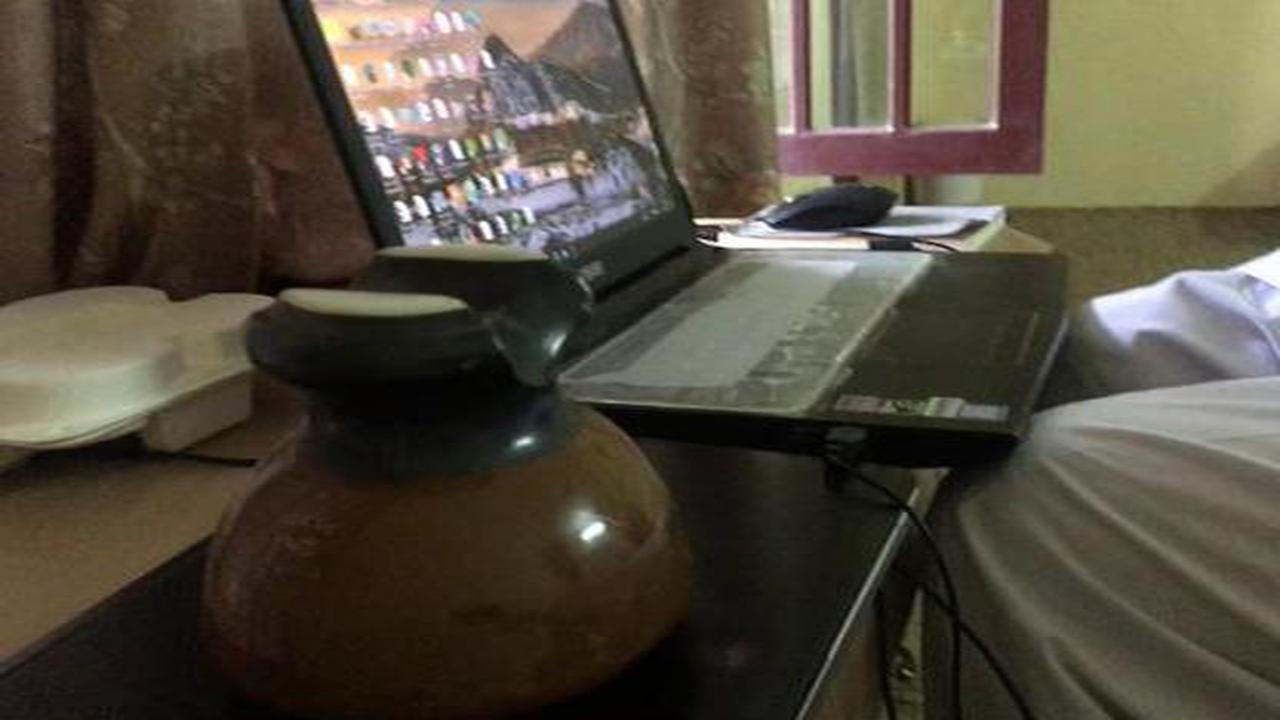insulator_pin: (176, 239, 724, 707)
